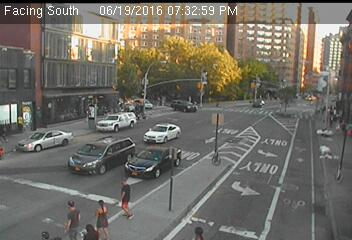neg: (190, 114, 225, 161), (251, 93, 273, 122), (57, 36, 79, 65), (140, 130, 158, 154), (93, 100, 110, 124), (146, 64, 160, 83), (183, 49, 195, 66), (199, 72, 210, 88)
pos: (111, 175, 145, 220), (85, 195, 117, 238), (56, 198, 85, 237)
